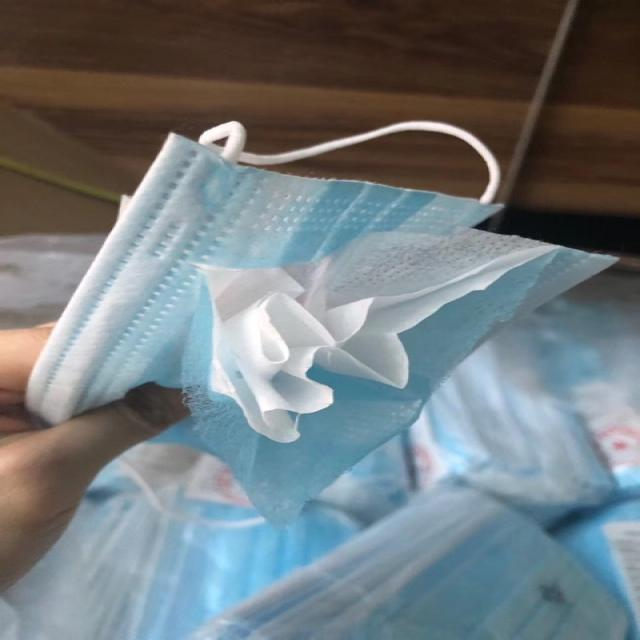non-organic waste: (16, 120, 555, 549)
